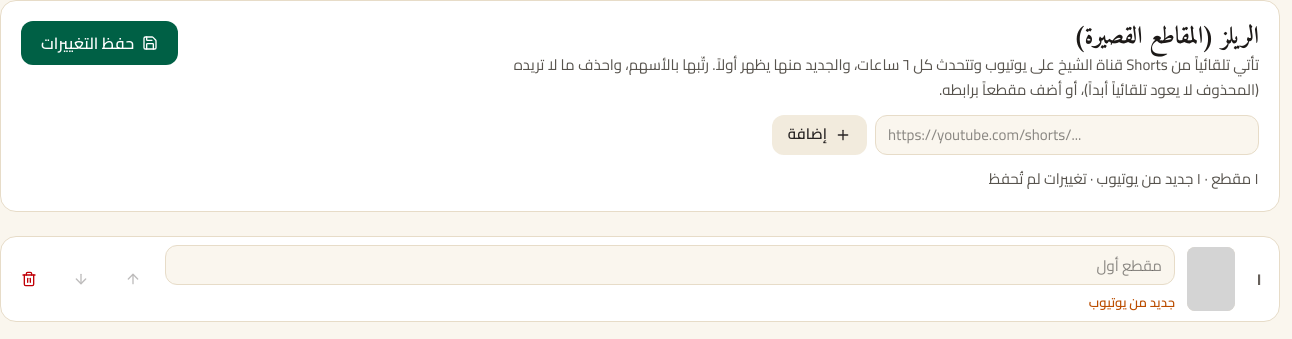
ReelsManager › shows the message when saving fails
Click the button named "حذف": (29, 279) [9, 259, 49, 299]
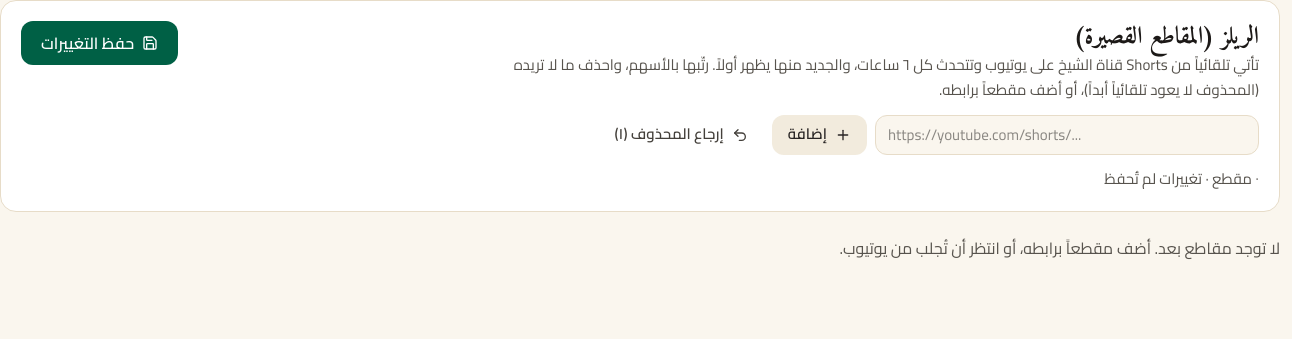
Click the button "حفظ التغييرات": (100, 43) [21, 21, 178, 65]
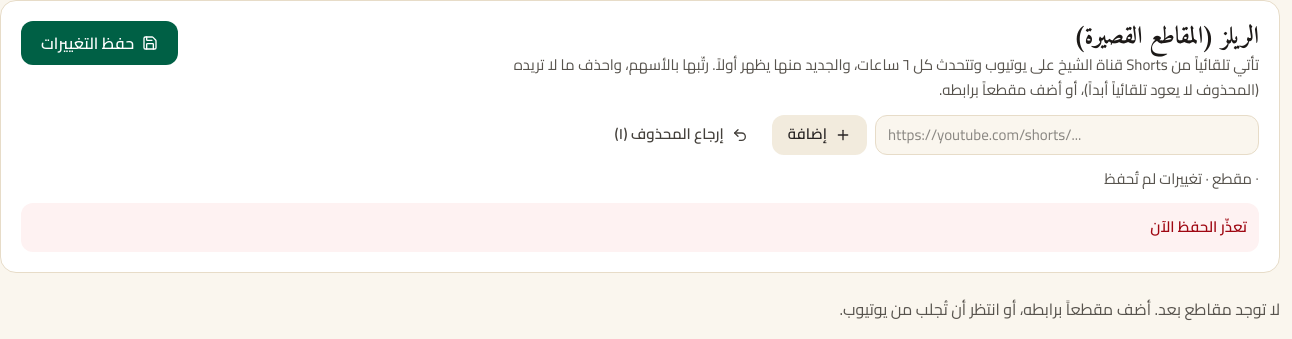
Result: the message reads "تعذّر الحفظ الآن" at [1150, 212, 1247, 241]
